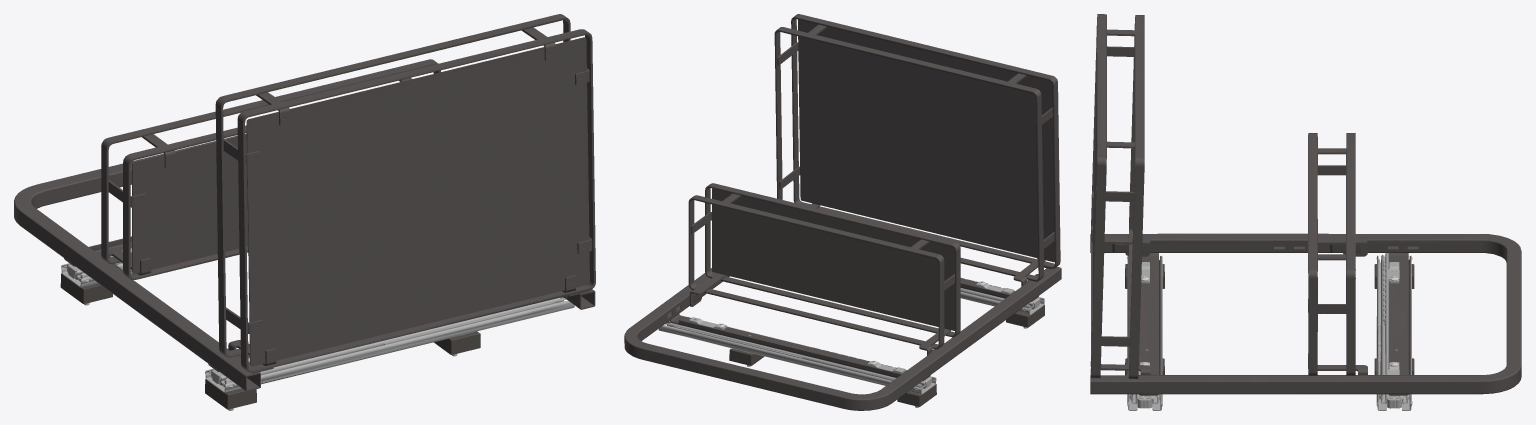
Rendered from utrusta_organizer_pod_zlew_20602731.glb.
The picture shows the model from 3 angles, left to right: view 1: azimuth 30°, elevation 25°; view 2: azimuth 150°, elevation 25°; view 3: azimuth 270°, elevation 25°; orthographic projection. The views are drawn at different scales.
Parts seen in each view (by area): view 1: utrusta_organizer_pod_zlew_20602731; view 2: utrusta_organizer_pod_zlew_20602731; view 3: utrusta_organizer_pod_zlew_20602731.
Part boxes in pixels (box(x1,y1,x2,y2)): utrusta_organizer_pod_zlew_20602731: box(14, 14, 595, 410); utrusta_organizer_pod_zlew_20602731: box(624, 14, 1061, 410); utrusta_organizer_pod_zlew_20602731: box(1090, 14, 1521, 410).
Bounding box in the file's own units: 0.3511 × 0.3035 × 0.432.
1 material, 1 textured.
